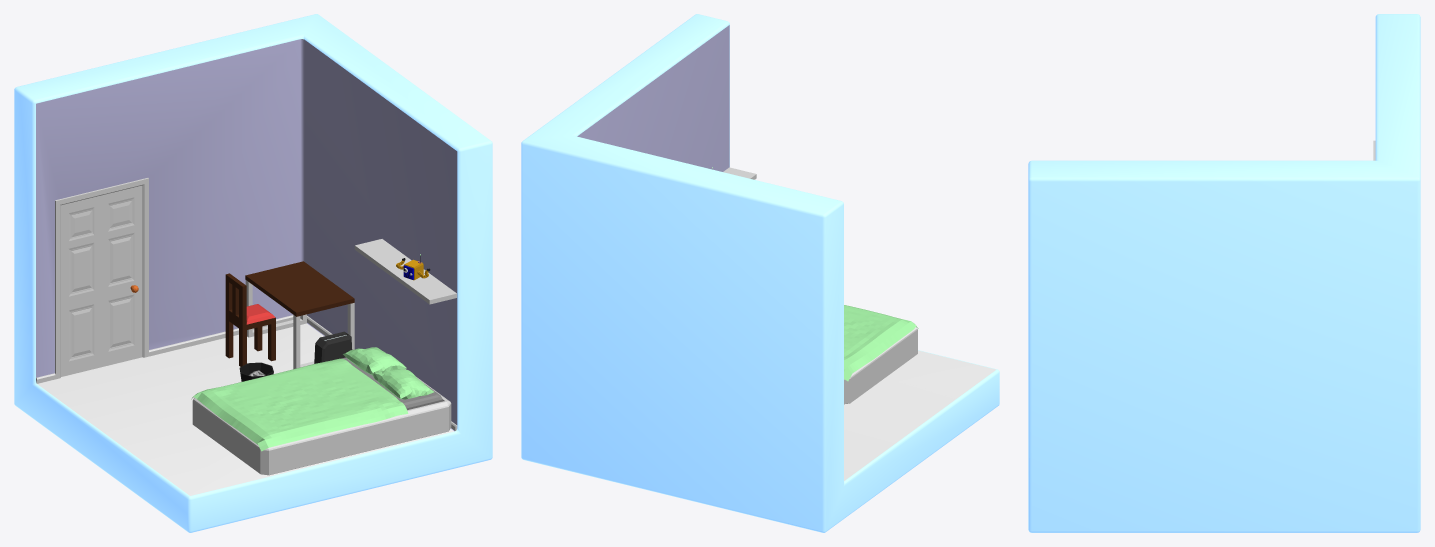
The model's file is CozyRoom_9.glb.
3 views of the same model, side by side, from view 1: azimuth 30°, elevation 25°; view 2: azimuth 150°, elevation 25°; view 3: azimuth 270°, elevation 25° (orthographic). The views are drawn at different scales.
Parts seen in each view (by area): view 1: Cube.024, Cube.004, Plane.005, Cube.002, Cube.015, Cube.023, Cube.008, Cube.007, Plane.007, Cube.005, Plane.006, Cube.009 (+2 smaller); view 2: Cube.024, Plane.005, Cube.002; view 3: Cube.024.
Boxes of the visible parts, left/top/right/bottom form: Cube.024: left=14, top=14, right=492, bottom=532; Cube.004: left=61, top=185, right=142, bottom=376; Plane.005: left=191, top=358, right=408, bottom=451; Cube.002: left=192, top=357, right=451, bottom=475; Cube.015: left=245, top=261, right=354, bottom=369; Cube.023: left=225, top=273, right=275, bottom=366; Cube.008: left=354, top=239, right=456, bottom=304; Cube.007: left=142, top=178, right=148, bottom=357; Plane.007: left=372, top=369, right=433, bottom=399; Cube.005: left=55, top=199, right=60, bottom=379; Plane.006: left=343, top=347, right=406, bottom=374; Cube.009: left=314, top=331, right=352, bottom=363; Cube.024: left=521, top=14, right=999, bottom=532; Plane.005: left=844, top=305, right=918, bottom=381; Cube.002: left=844, top=327, right=917, bottom=404; Cube.024: left=1028, top=14, right=1420, bottom=532.
Bounding box in the file's own units: 2.26 × 2.26 × 2.26.
